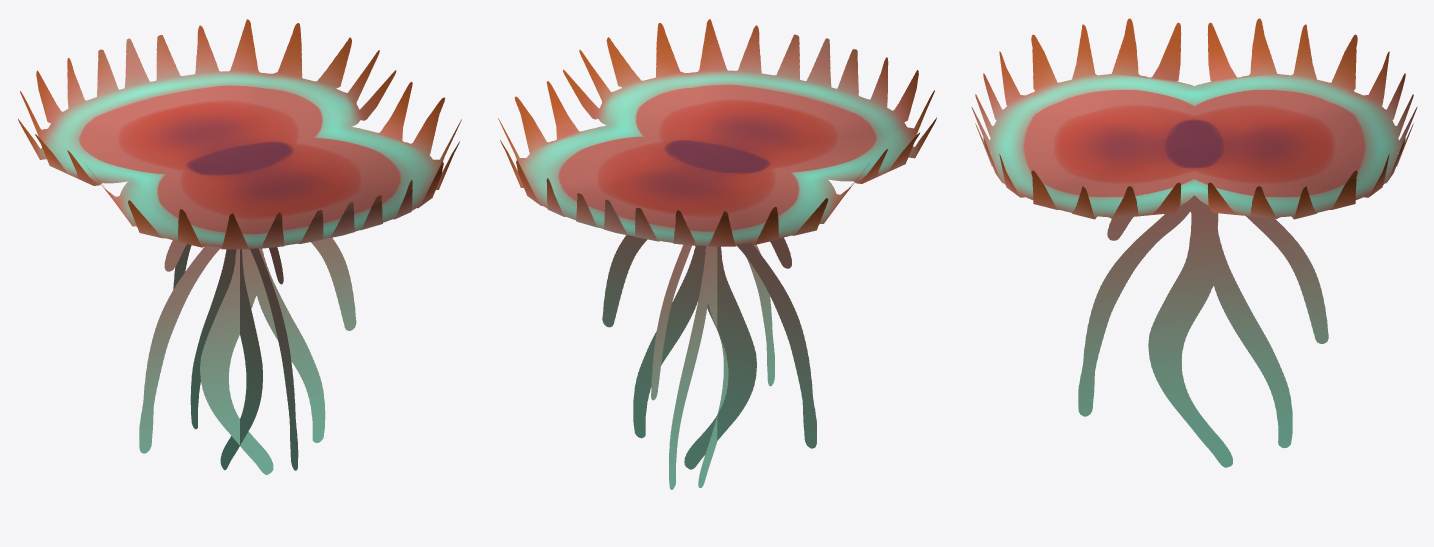
The model's file is LachWithoutFlower.fbx.
The picture shows the model from 3 angles, left to right: view 1: azimuth 30°, elevation 25°; view 2: azimuth 150°, elevation 25°; view 3: azimuth 270°, elevation 25°; orthographic projection.
Parts seen in each view (by area): view 1: LachWithoutFlower; view 2: LachWithoutFlower; view 3: LachWithoutFlower.
Boxes of the visible parts, left/top/right/bottom form: LachWithoutFlower: left=18, top=19, right=461, bottom=474; LachWithoutFlower: left=498, top=19, right=936, bottom=489; LachWithoutFlower: left=971, top=18, right=1417, bottom=467.
Bounding box in the file's own units: 88.14 × 88.43 × 96.68.
